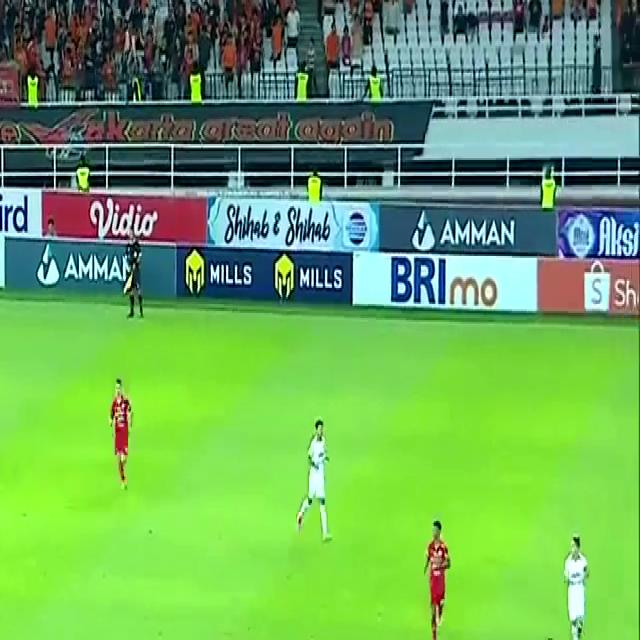referee: (114, 233, 154, 326)
soccer-player: (292, 406, 347, 544), (417, 510, 469, 640), (552, 530, 602, 640), (98, 372, 142, 496), (530, 636, 586, 640)
